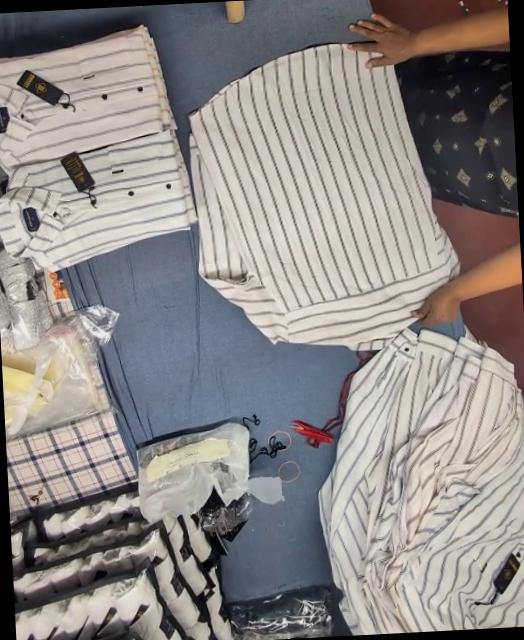new-garment: (191, 44, 458, 349)
